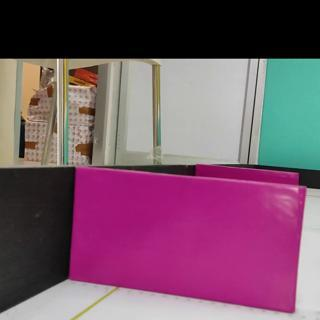xparking: (69, 169, 302, 314), (196, 164, 298, 182)
